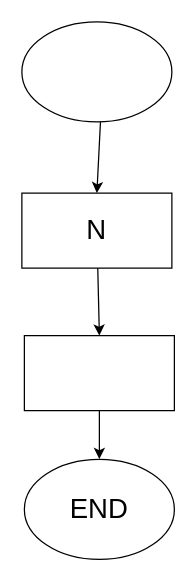
Some shapes in this 196 by 581 pixel diagram are drawn without their labels. Each missing label, with the box of its shape:
N*N: (23, 334, 174, 411)
START: (21, 21, 172, 122)
